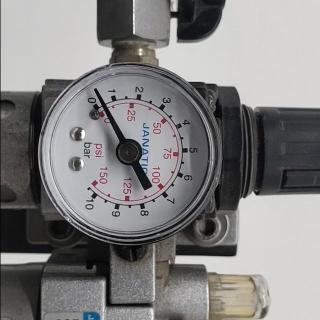gauge: (37, 62, 223, 250), (88, 96, 113, 128), (114, 139, 142, 165), (79, 174, 105, 194), (91, 86, 101, 96)
